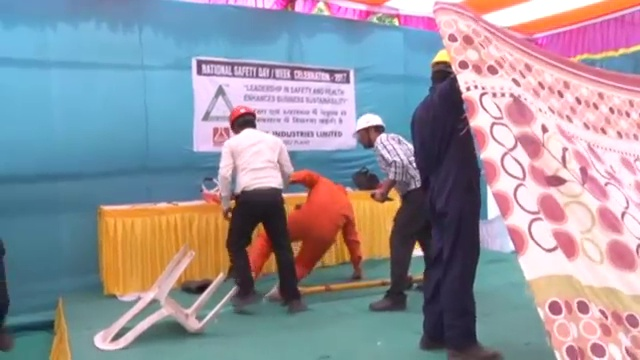helmet: (353, 112, 386, 137), (228, 103, 257, 127), (430, 43, 457, 67)
helmet_on: (426, 42, 457, 94), (353, 112, 389, 150), (228, 101, 258, 138)
person: (411, 43, 501, 360), (215, 101, 307, 315), (353, 111, 431, 314), (245, 168, 365, 285)
